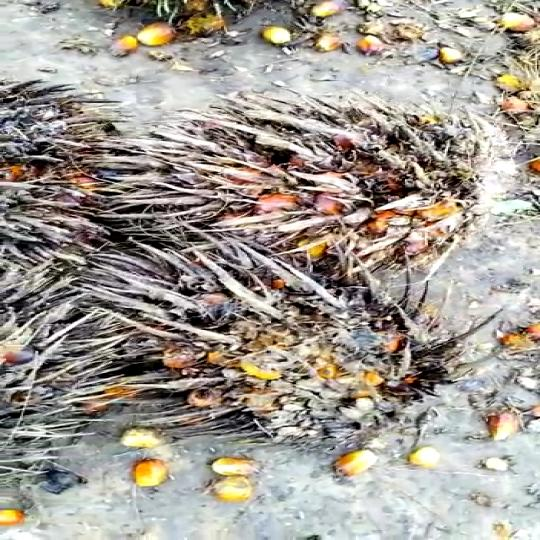terlalu masak: (67, 251, 466, 443), (80, 110, 493, 270)
